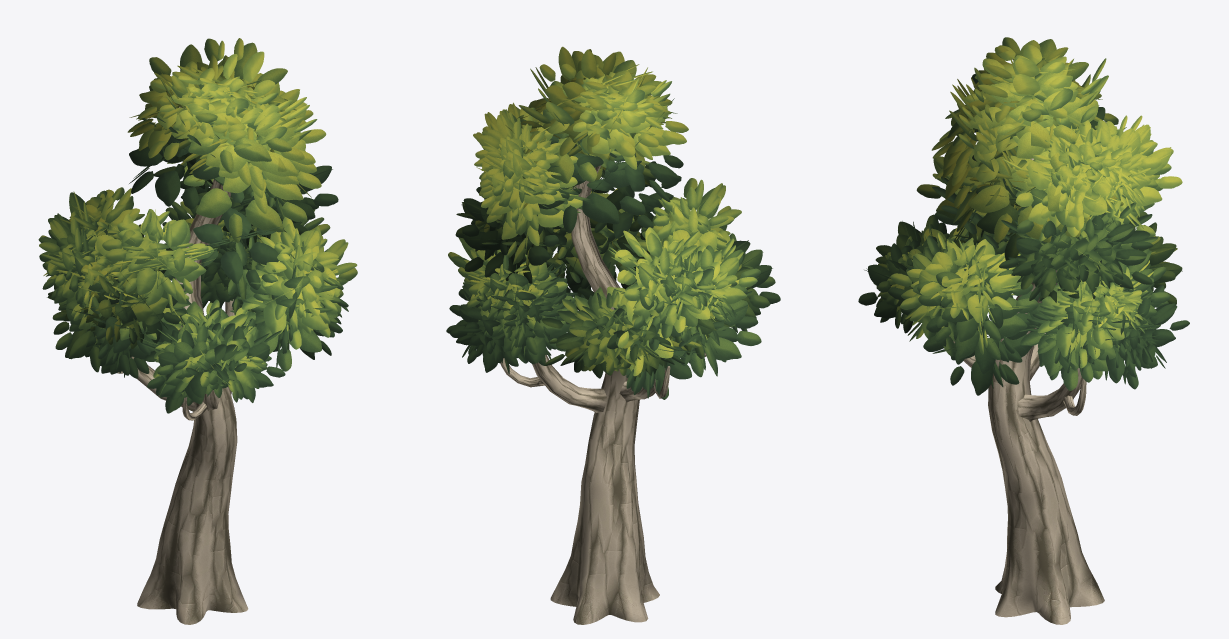
File: tree_round_b.glb
The picture shows the model from 3 angles, left to right: view 1: azimuth 30°, elevation 25°; view 2: azimuth 150°, elevation 25°; view 3: azimuth 270°, elevation 25°; orthographic projection. The views are drawn at different scales.
Parts seen in each view (by area): view 1: Canopy, tree_round_b; view 2: Canopy, tree_round_b; view 3: Canopy, tree_round_b.
Boxes of the visible parts, x1,y1,x2,y2 form: Canopy: (38,38,357,413); tree_round_b: (117,106,248,624); Canopy: (446,46,780,399); tree_round_b: (500,165,706,624); Canopy: (858,37,1189,395); tree_round_b: (949,158,1104,624).
Bounding box in the file's own units: 1.47 × 2.3 × 1.39.
2 materials, 2 textured.
